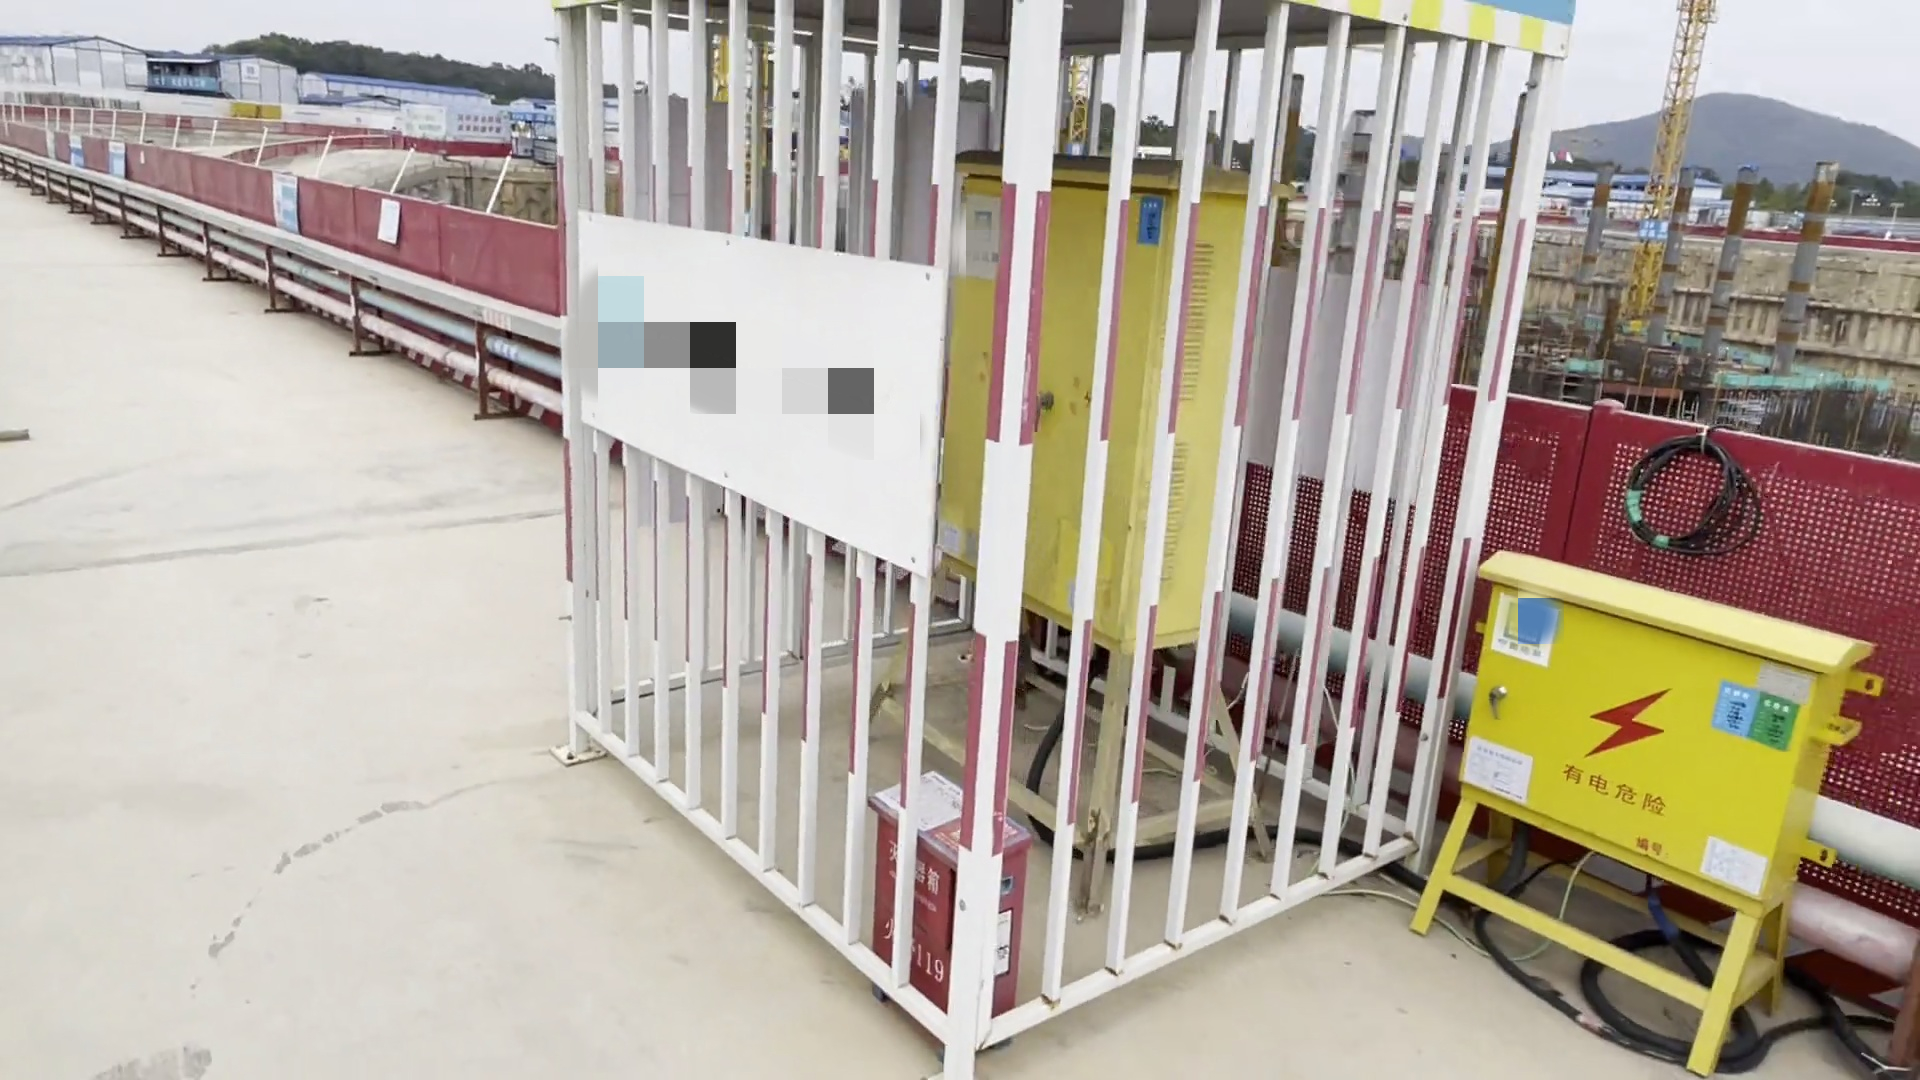ebox: (924, 117, 1278, 884), (1425, 530, 1821, 1062)
